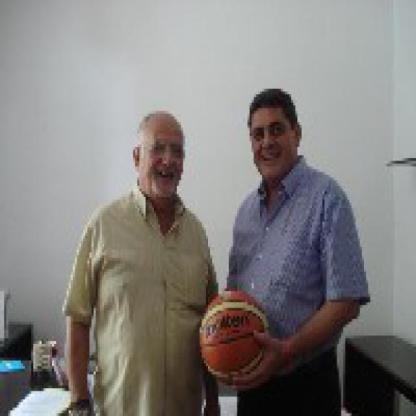basketball: (196, 288, 268, 388)
